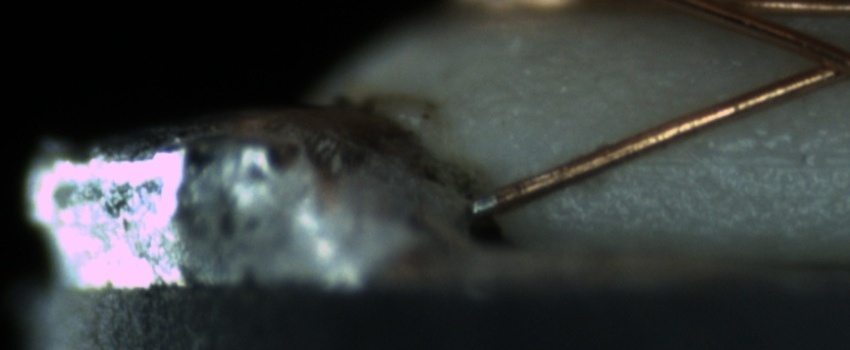CL: (791, 33, 850, 89)
DL: (615, 122, 847, 189)
TS: (468, 190, 496, 217)
